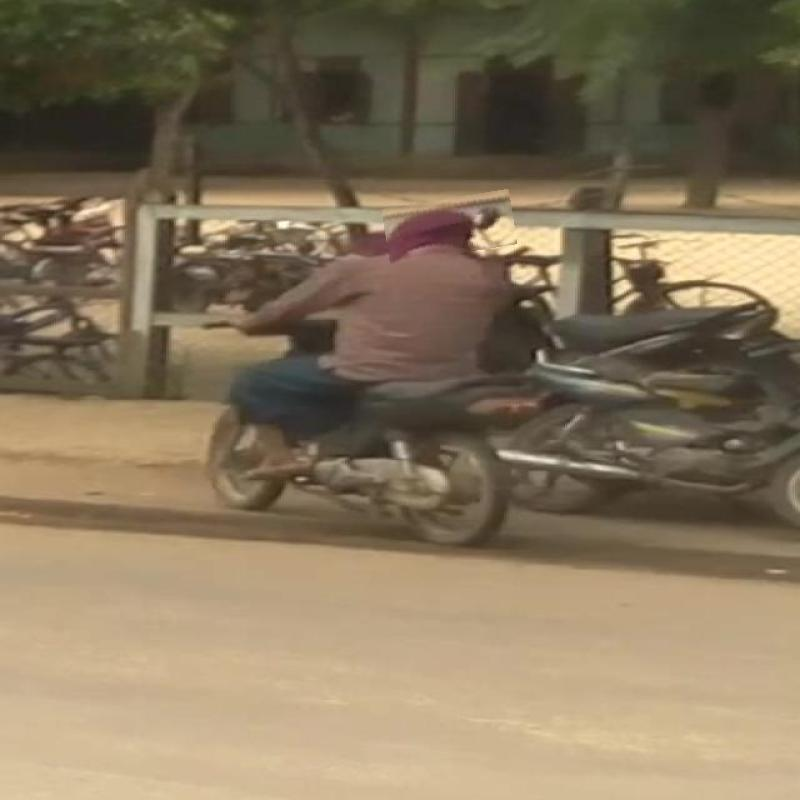nohelmet: (383, 194, 516, 260)
